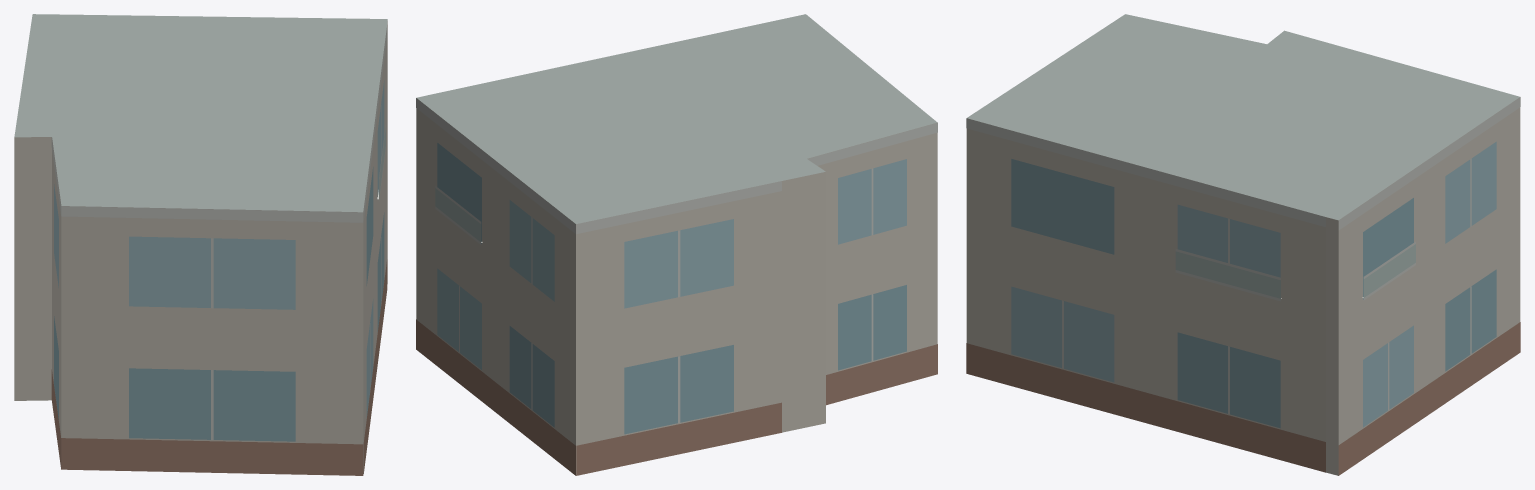
File: survey-upis-32654951.glb
3 renders of one model, left to right at view 1: azimuth 30°, elevation 25°; view 2: azimuth 150°, elevation 25°; view 3: azimuth 270°, elevation 25°, orthographic. The views are drawn at different scales.
Visible parts, largest first — view 1: survey-upis-32654951.tmp; view 2: survey-upis-32654951.tmp; view 3: survey-upis-32654951.tmp.
Part boxes in pixels (left/top/right/bottom): survey-upis-32654951.tmp: left=14, top=14, right=387, bottom=475; survey-upis-32654951.tmp: left=416, top=14, right=937, bottom=475; survey-upis-32654951.tmp: left=966, top=14, right=1520, bottom=475.
Bounding box in the file's own units: 10.57 × 6.1 × 11.99.
